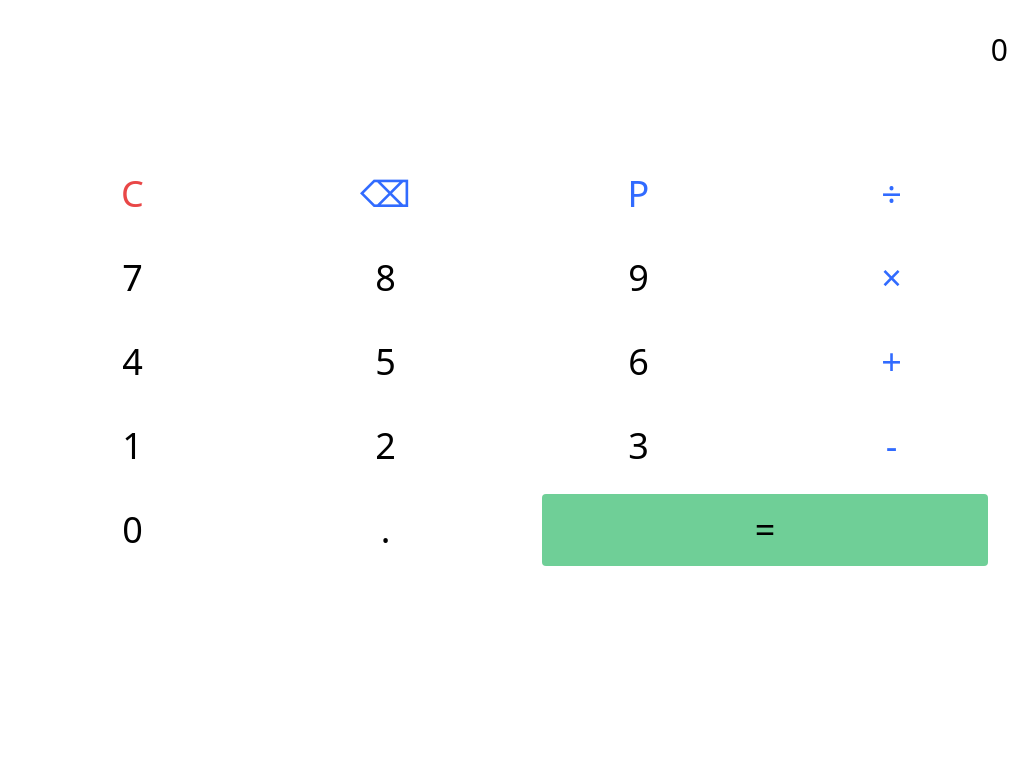
Test case: MathCalc Component › displays calculated multiplication result
Click the button with test id "5" at (386, 362), box [265,326,506,398]
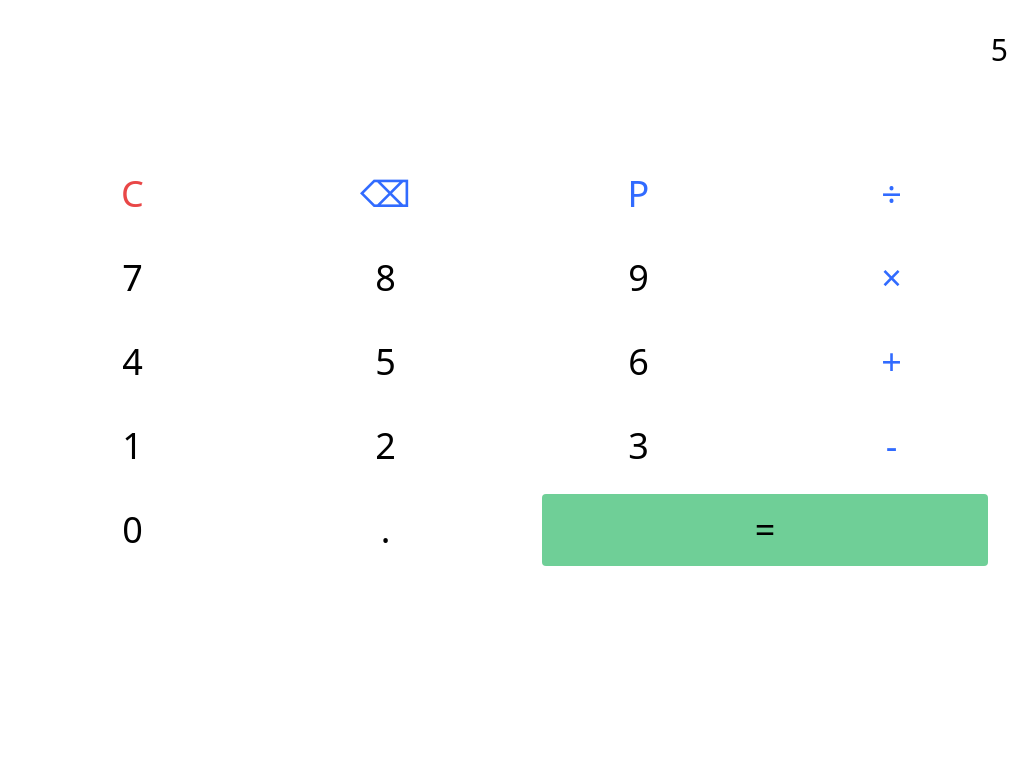
Click the button with test id "*" at (892, 278), box [771,242,1012,314]
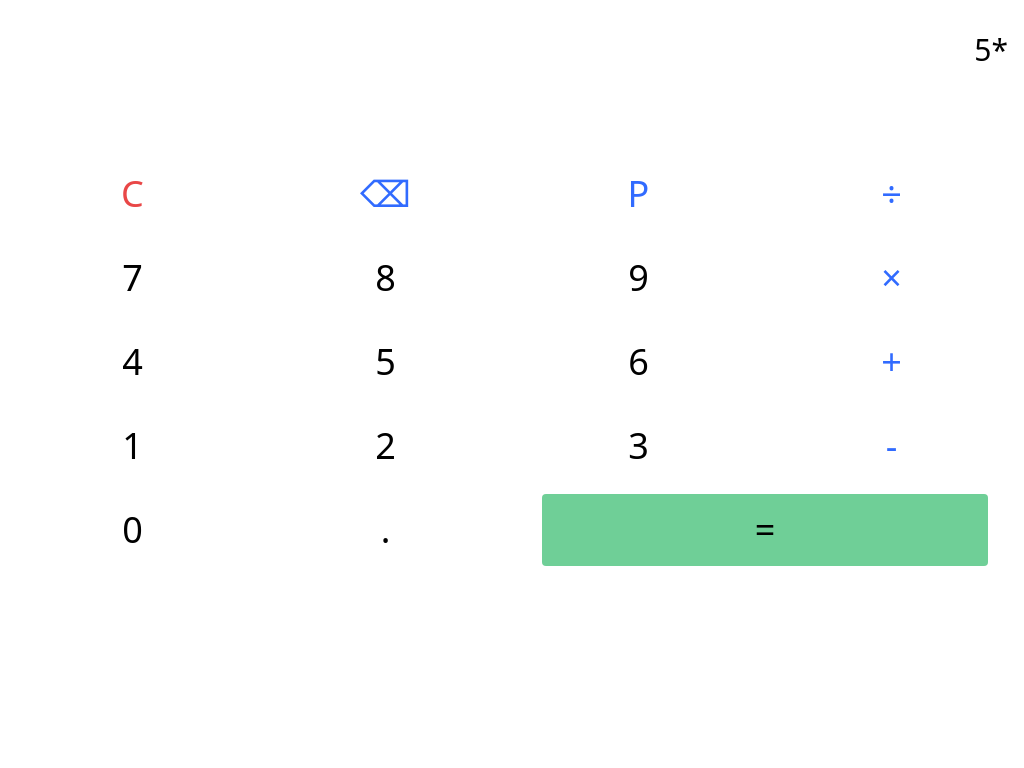
Click the button with test id "3" at (638, 446), box [518,410,759,482]
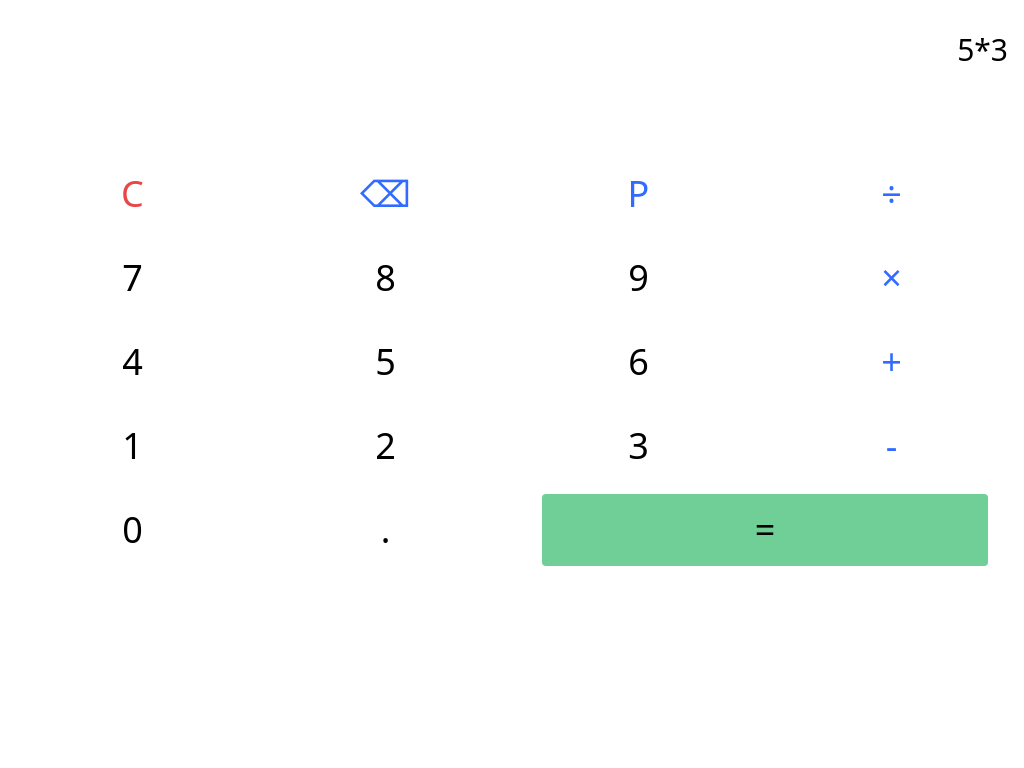
Click the button with test id "equals" at (765, 530), box [542,494,988,566]
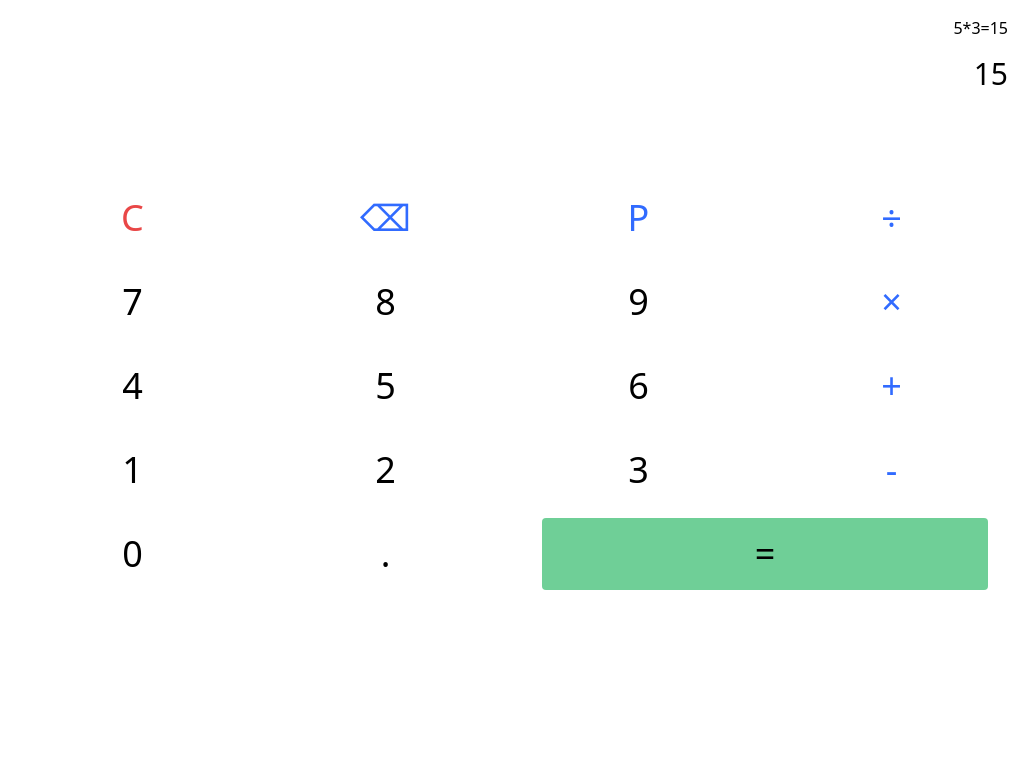
Expected: the text with test id "result" reads "15", [974,53,1008,94]
